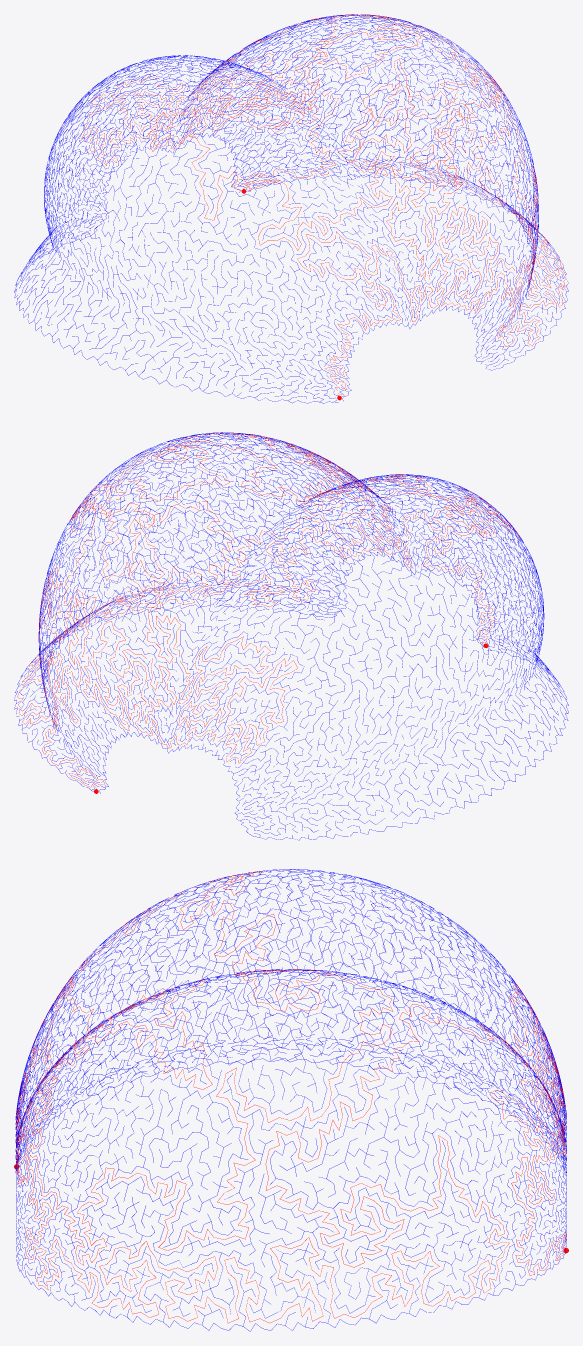
File: answer1.glb
The picture shows the model from 3 angles, top to bottom: view 1: azimuth 30°, elevation 25°; view 2: azimuth 150°, elevation 25°; view 3: azimuth 270°, elevation 25°; orthographic projection. The views are drawn at different scales.
Bounding box in the file's own units: 2.3 × 1.13 × 2.01.
